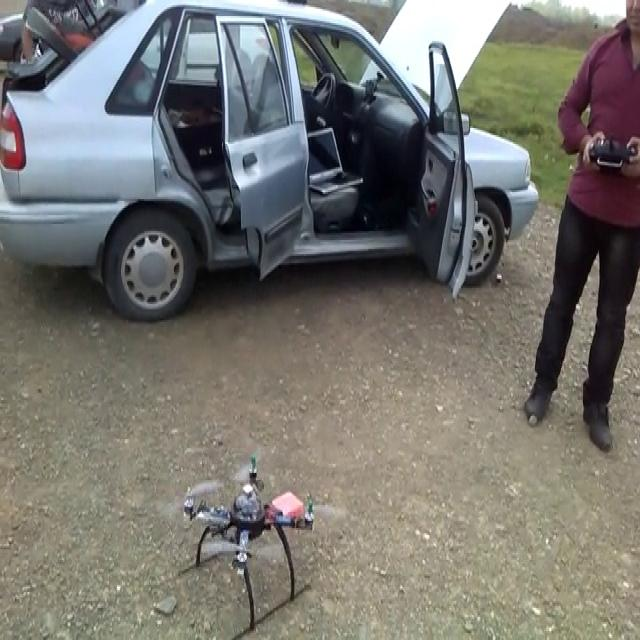drone: (171, 441, 346, 638)
